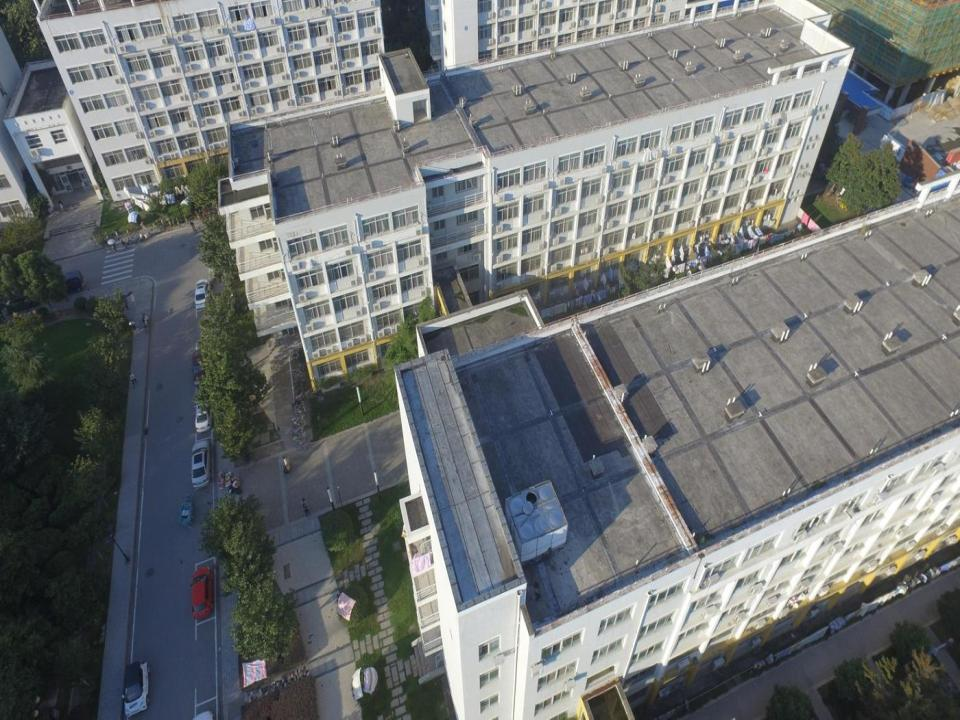car: (121, 660, 151, 717), (190, 565, 214, 620), (191, 440, 212, 492), (194, 394, 212, 435), (192, 347, 210, 386), (195, 278, 209, 309)
van: (4, 288, 39, 312), (52, 270, 85, 292)
